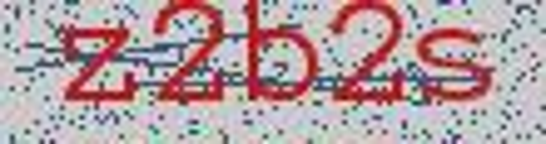2: (146, 1, 232, 112), (327, 1, 407, 109)
b: (239, 1, 323, 108)
s: (414, 22, 500, 109)
z: (54, 16, 144, 111)
